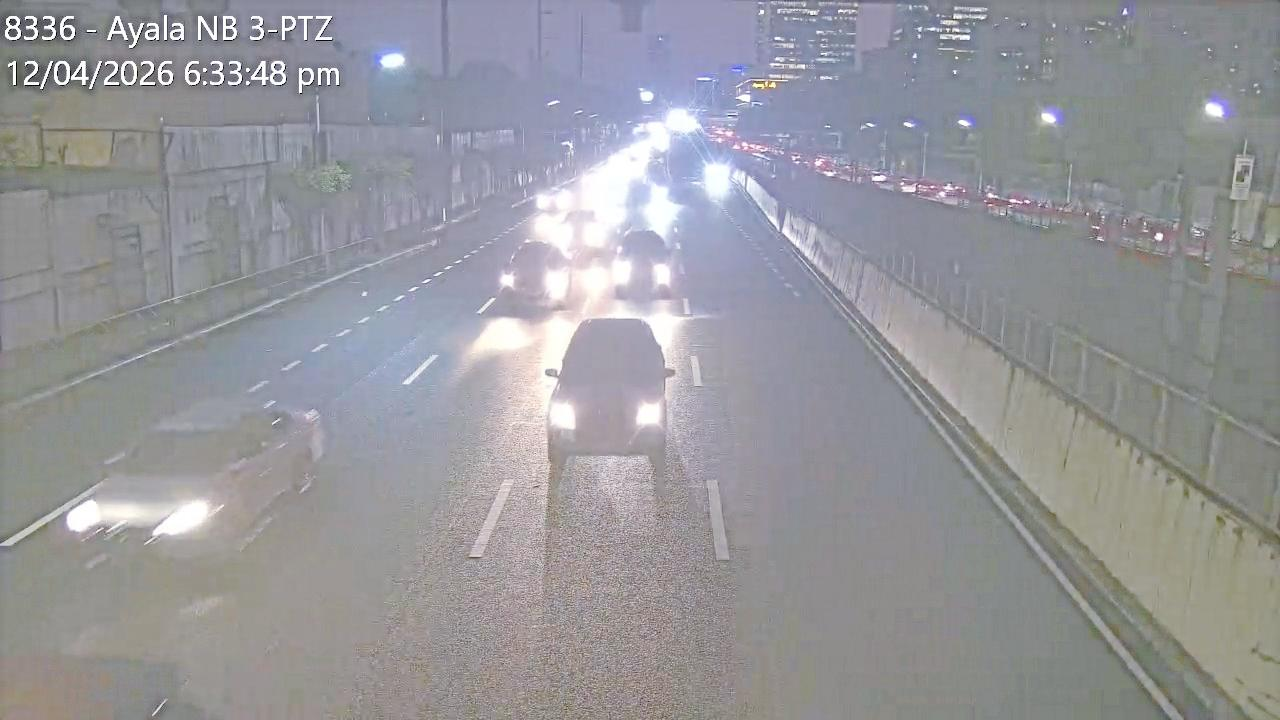Car: (72, 396, 324, 568), (556, 316, 690, 469), (499, 238, 572, 308), (611, 228, 673, 302), (534, 184, 567, 214)
Motor: (566, 238, 617, 300)
Not Accident: (500, 228, 676, 306)
